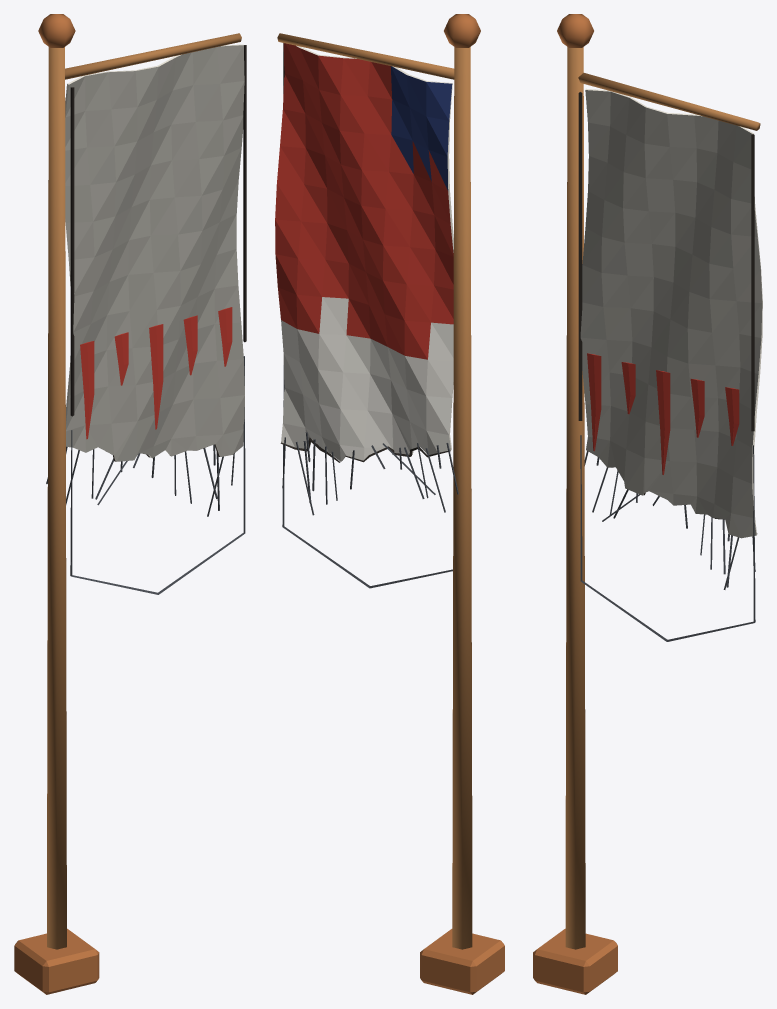
The model's file is Banner_Unfinished.fbx.
3 views of the same model, side by side, from view 1: azimuth 30°, elevation 25°; view 2: azimuth 150°, elevation 25°; view 3: azimuth 330°, elevation 25° (orthographic).
Parts seen in each view (by area): view 1: Cloth, Pole; view 2: Cloth, Pole; view 3: Cloth, Pole.
Part boxes in pixels (<box>): Cloth: <box>46,44,246,594</box>; Pole: <box>14,14,241,994</box>; Cloth: <box>275,43,458,588</box>; Pole: <box>277,14,504,994</box>; Cloth: <box>578,88,762,641</box>; Pole: <box>533,14,760,994</box>.
Size of the model in its own units: 1.05 by 4.54 by 0.28.
